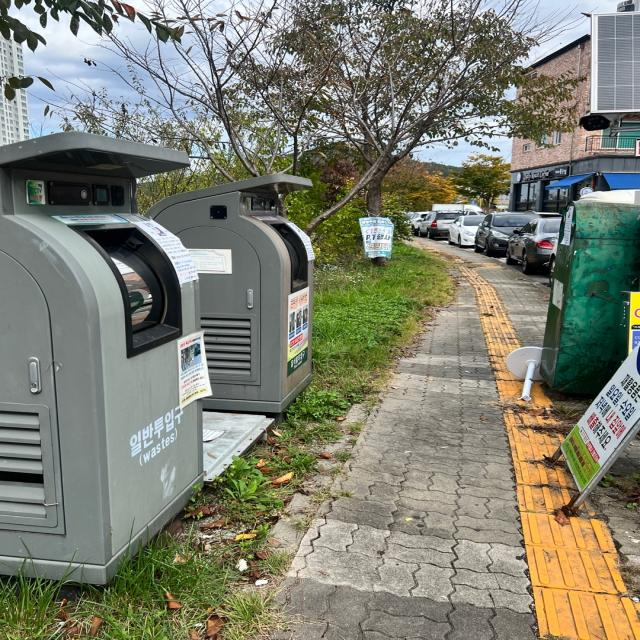CleanNet: (0, 129, 202, 590), (138, 172, 318, 415)
